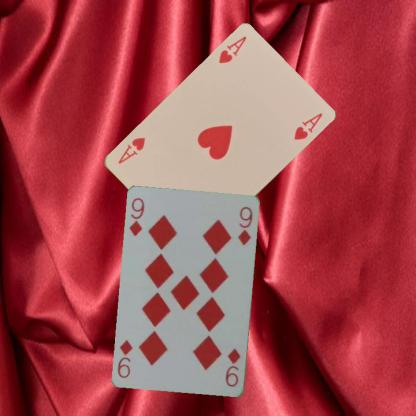9d: (223, 346, 242, 388), (127, 196, 146, 238)
Ah: (215, 34, 248, 66)
